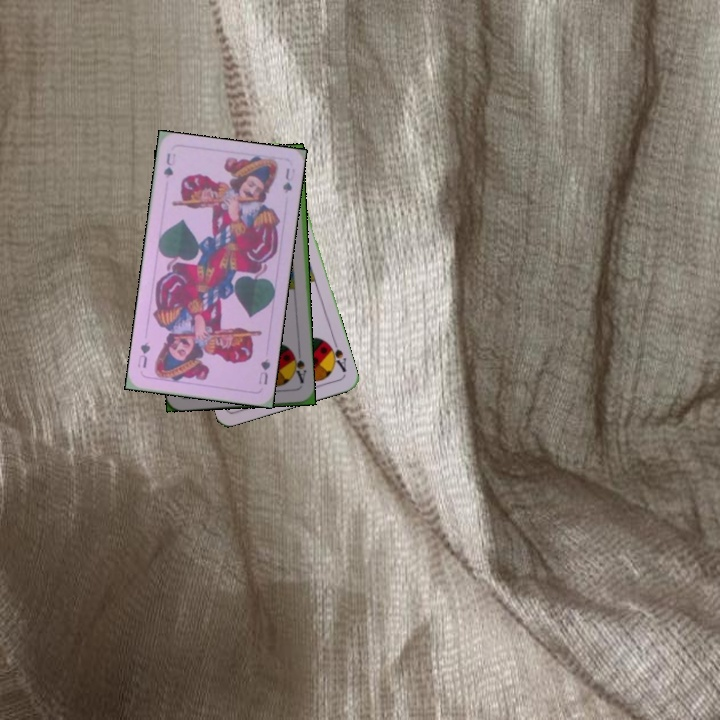GU: (255, 354, 273, 387), (160, 149, 178, 180)
SA: (323, 336, 349, 374), (288, 348, 309, 386)
